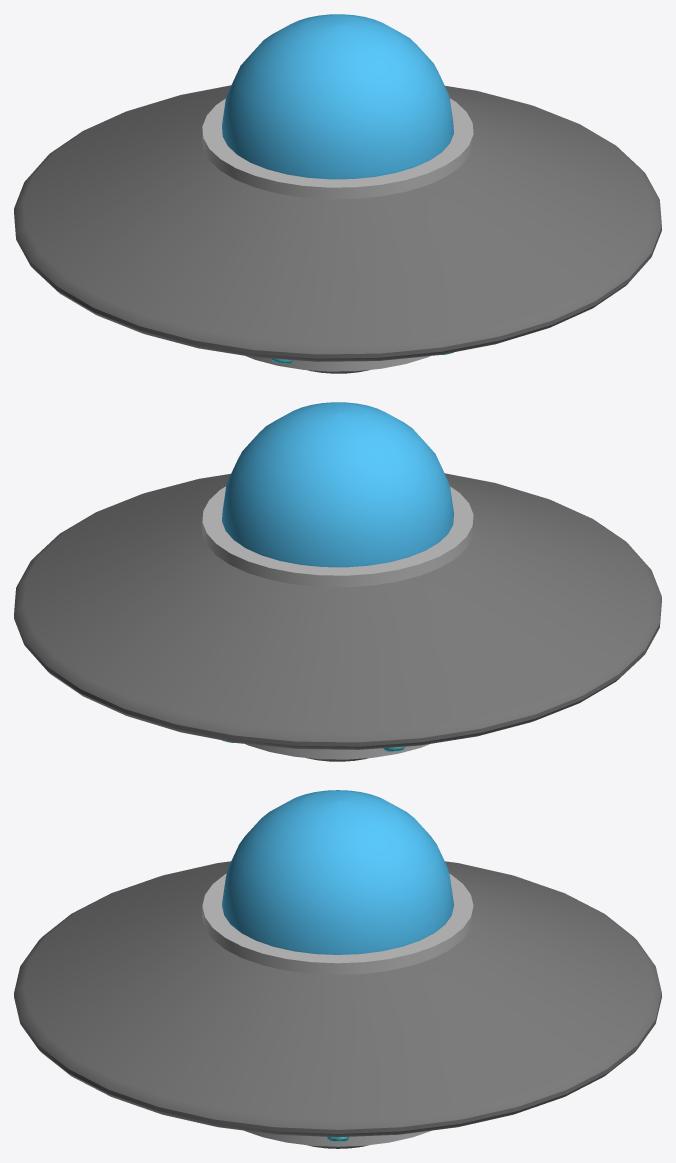
File: flying_saucer.glb
3 views of the same model, one above another, from view 1: azimuth 30°, elevation 25°; view 2: azimuth 150°, elevation 25°; view 3: azimuth 270°, elevation 25° (orthographic).
Visible parts, largest first — view 1: Cylinder.458; view 2: Cylinder.458; view 3: Cylinder.458.
Part boxes in pixels (x1,y1,x2,y2): Cylinder.458: (14, 14, 661, 373); Cylinder.458: (14, 402, 661, 761); Cylinder.458: (14, 790, 661, 1148).
Bounding box in the file's own units: 2.37 × 1.3 × 2.37.
Materials: 1 (1 with a texture image).
